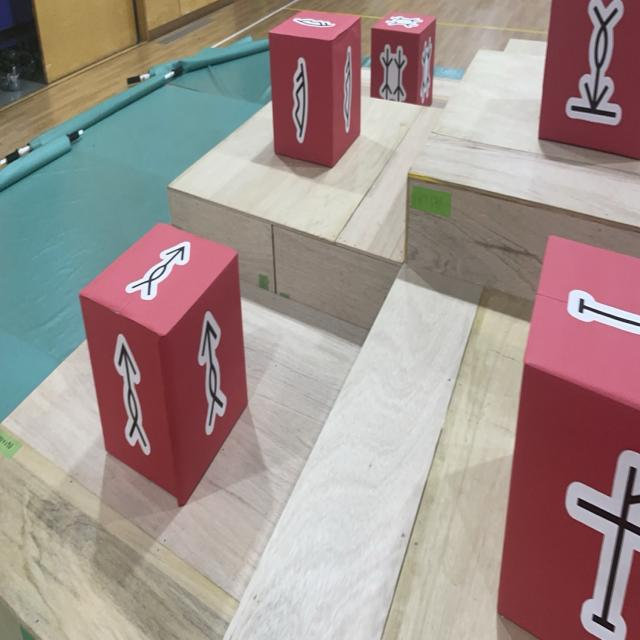11: (292, 56, 308, 145), (343, 45, 352, 134), (294, 18, 336, 29)
12: (114, 333, 151, 456), (126, 240, 190, 302), (197, 311, 228, 436)
6: (379, 44, 408, 102), (420, 37, 433, 104), (387, 15, 423, 30)
7: (566, 0, 624, 126)
9: (565, 448, 640, 640), (567, 289, 640, 336)
fighter: (496, 233, 640, 640), (78, 221, 248, 507), (538, 0, 640, 161), (268, 8, 362, 170), (370, 11, 437, 107)
